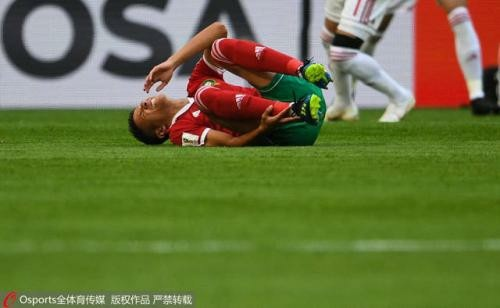falling: (120, 14, 337, 153)
